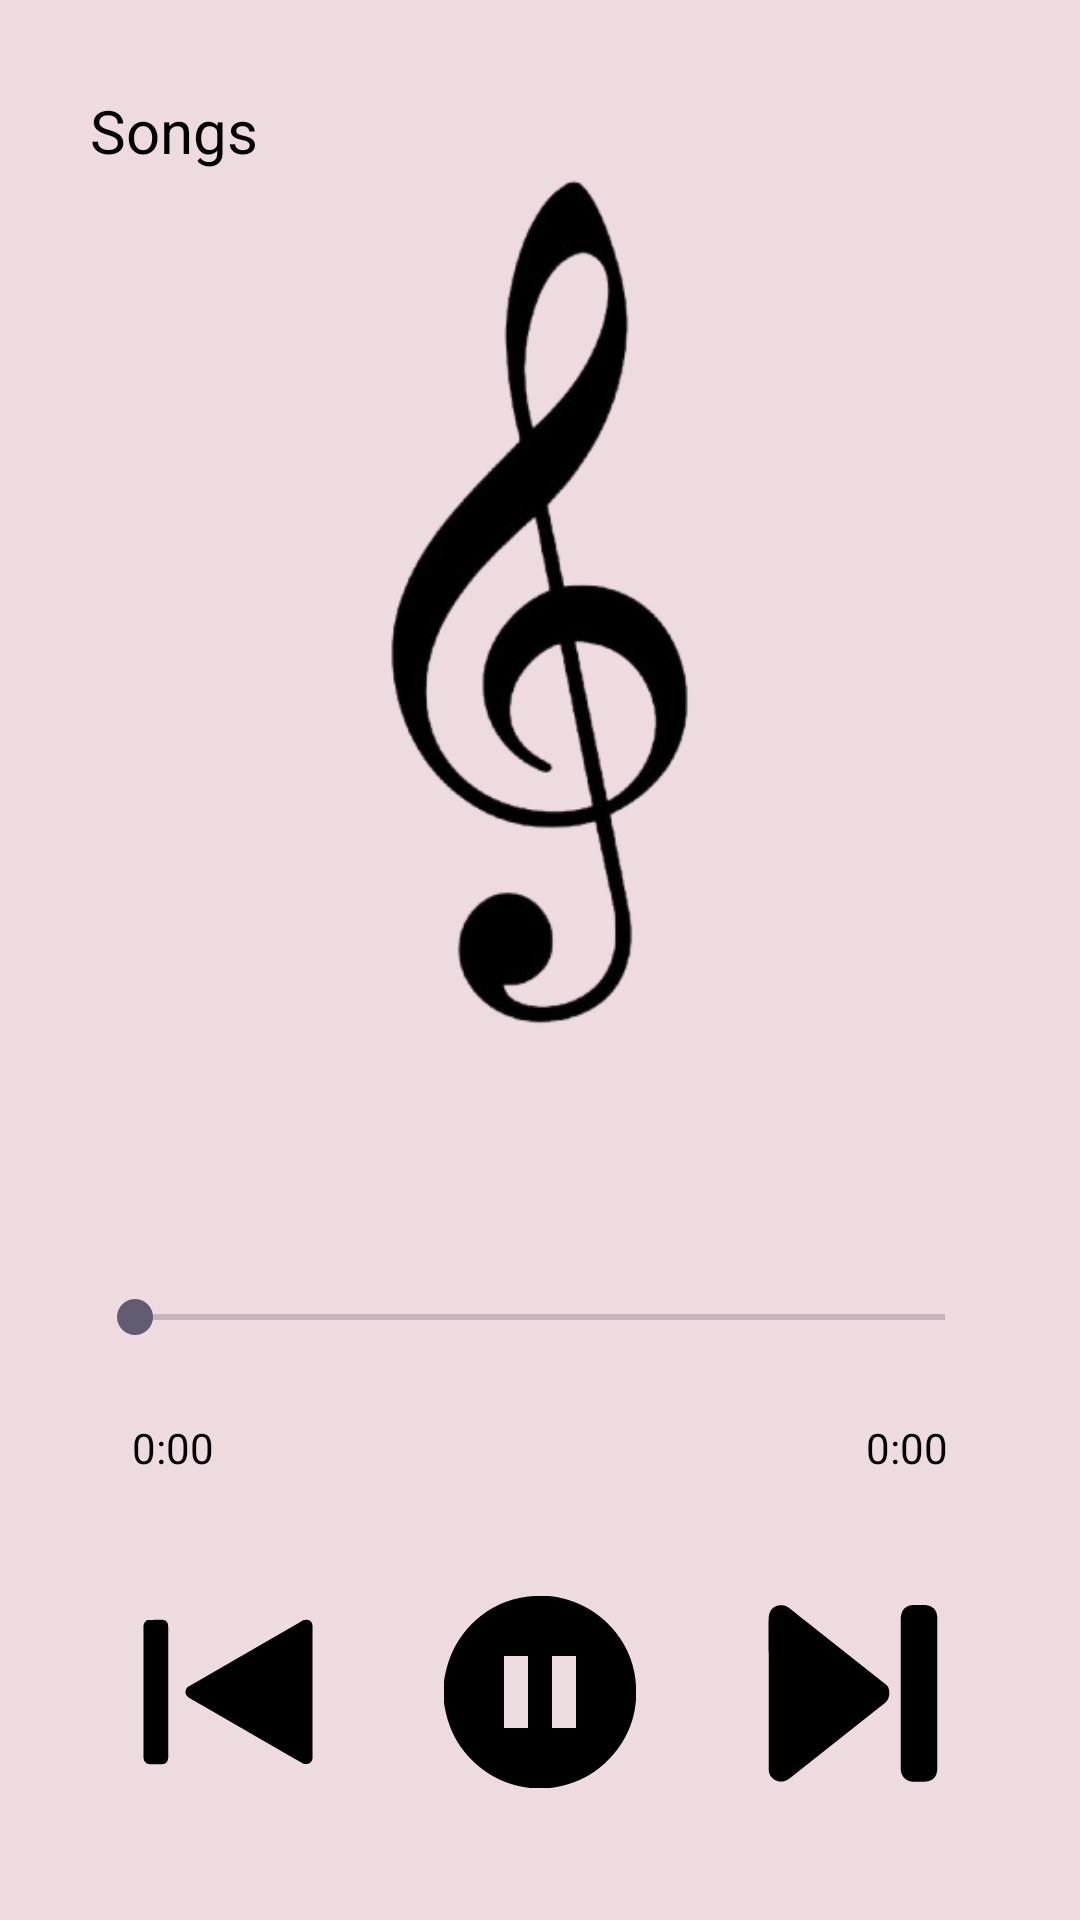

Where icons sit on this 1080 x 1920 app screen, as (x1, y1, x2, y2):
back music: (143, 1619, 313, 1765)
next play: (768, 1605, 938, 1782)
